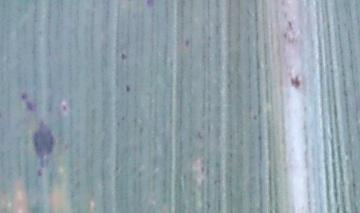tarspot: (31, 119, 57, 168), (288, 74, 302, 90), (23, 99, 37, 113), (281, 31, 296, 43), (123, 83, 133, 93), (19, 91, 29, 100), (144, 1, 156, 8), (119, 51, 128, 60), (183, 38, 192, 47), (60, 103, 69, 112), (285, 19, 293, 29), (256, 132, 263, 141), (196, 130, 203, 139), (36, 169, 42, 178), (252, 113, 258, 121)
